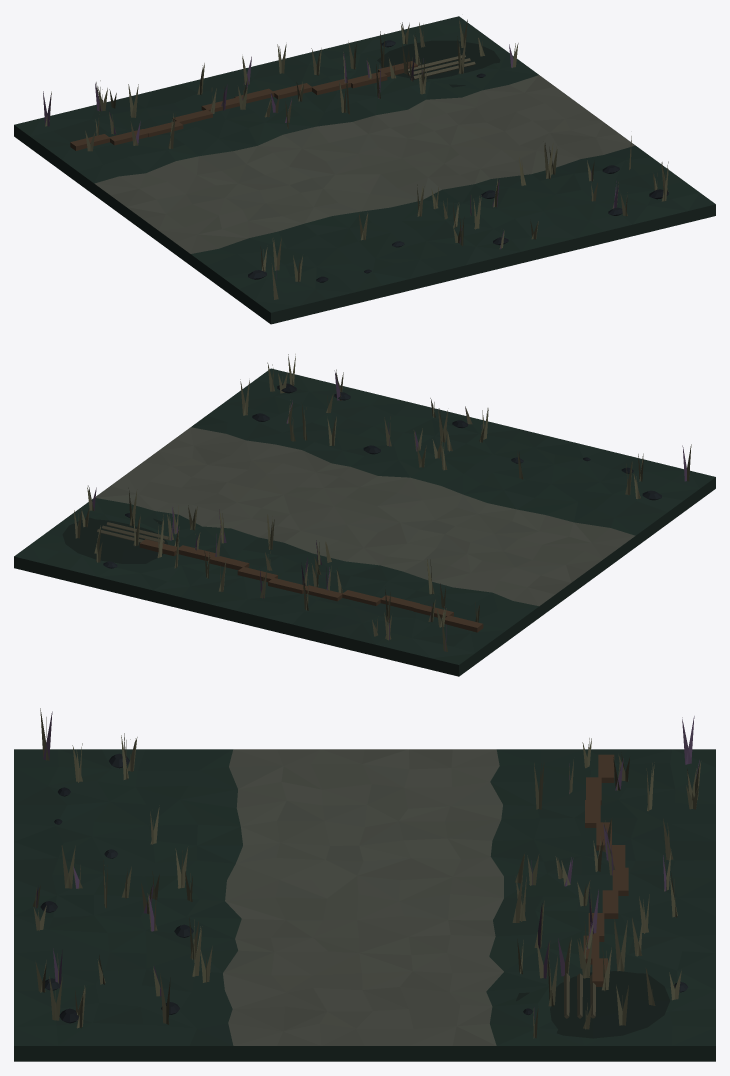
File: CHUNK_bell_mire__broken_dike_detour.glb
3 renders of one model, top to bottom at view 1: azimuth 30°, elevation 25°; view 2: azimuth 150°, elevation 25°; view 3: azimuth 270°, elevation 25°, orthographic. The views are drawn at different scales.
Visible parts, largest first — view 1: CHUNK_bell_mire__broken_dike_detour; view 2: CHUNK_bell_mire__broken_dike_detour; view 3: CHUNK_bell_mire__broken_dike_detour.
Part boxes in pixels (x1,y1,x2,y2): CHUNK_bell_mire__broken_dike_detour: (14, 16, 715, 324); CHUNK_bell_mire__broken_dike_detour: (14, 354, 715, 676); CHUNK_bell_mire__broken_dike_detour: (14, 708, 715, 1061).
Size of the model in its own units: 8 by 0.863 by 8.
